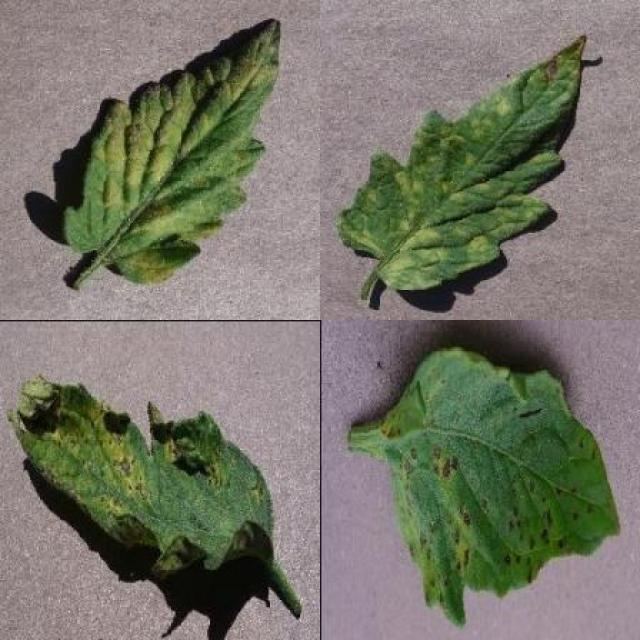Leaf Mold: (338, 34, 588, 286), (66, 17, 283, 286)
Septoria: (378, 348, 622, 628), (8, 374, 275, 570)
